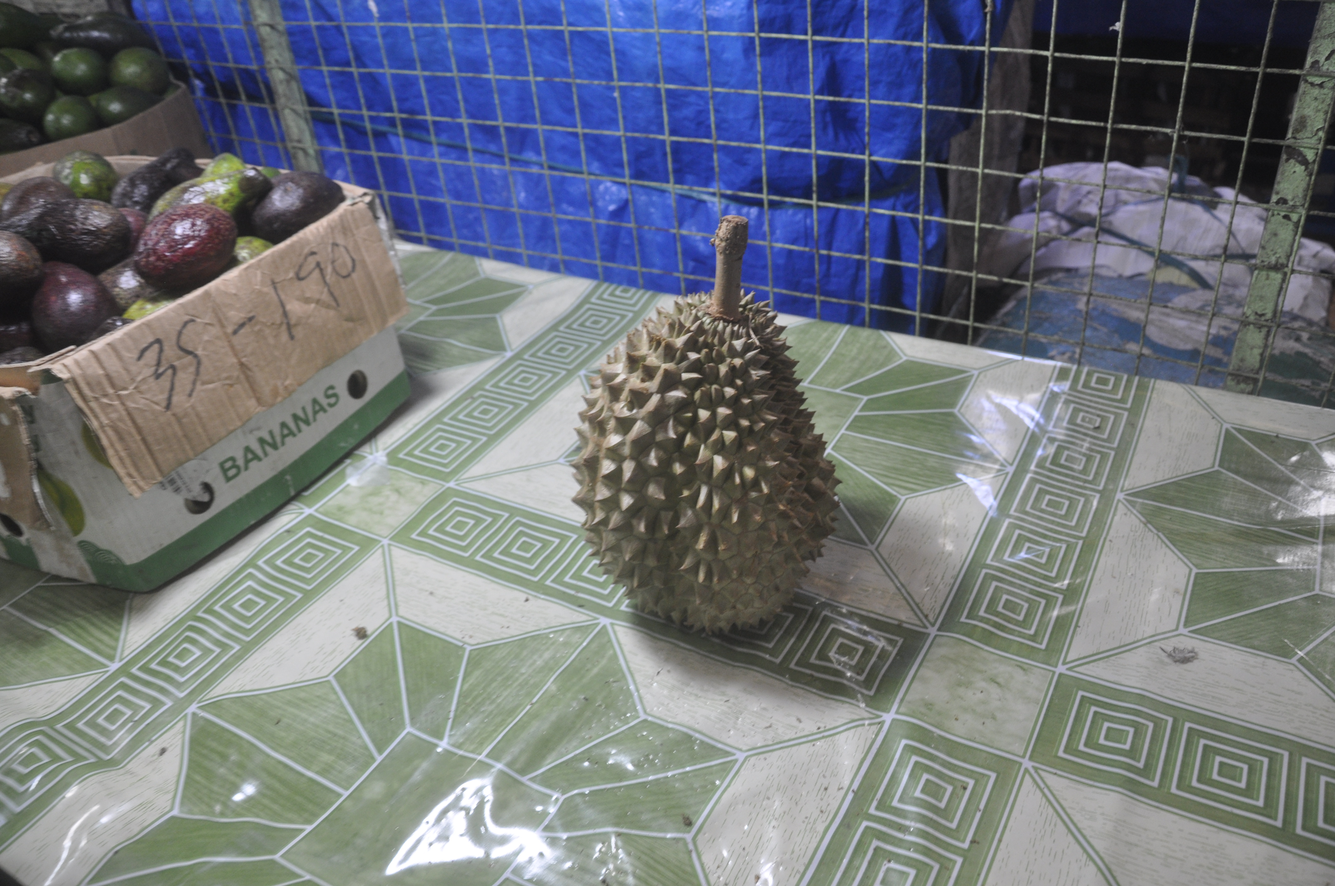mature: (568, 215, 842, 636)
